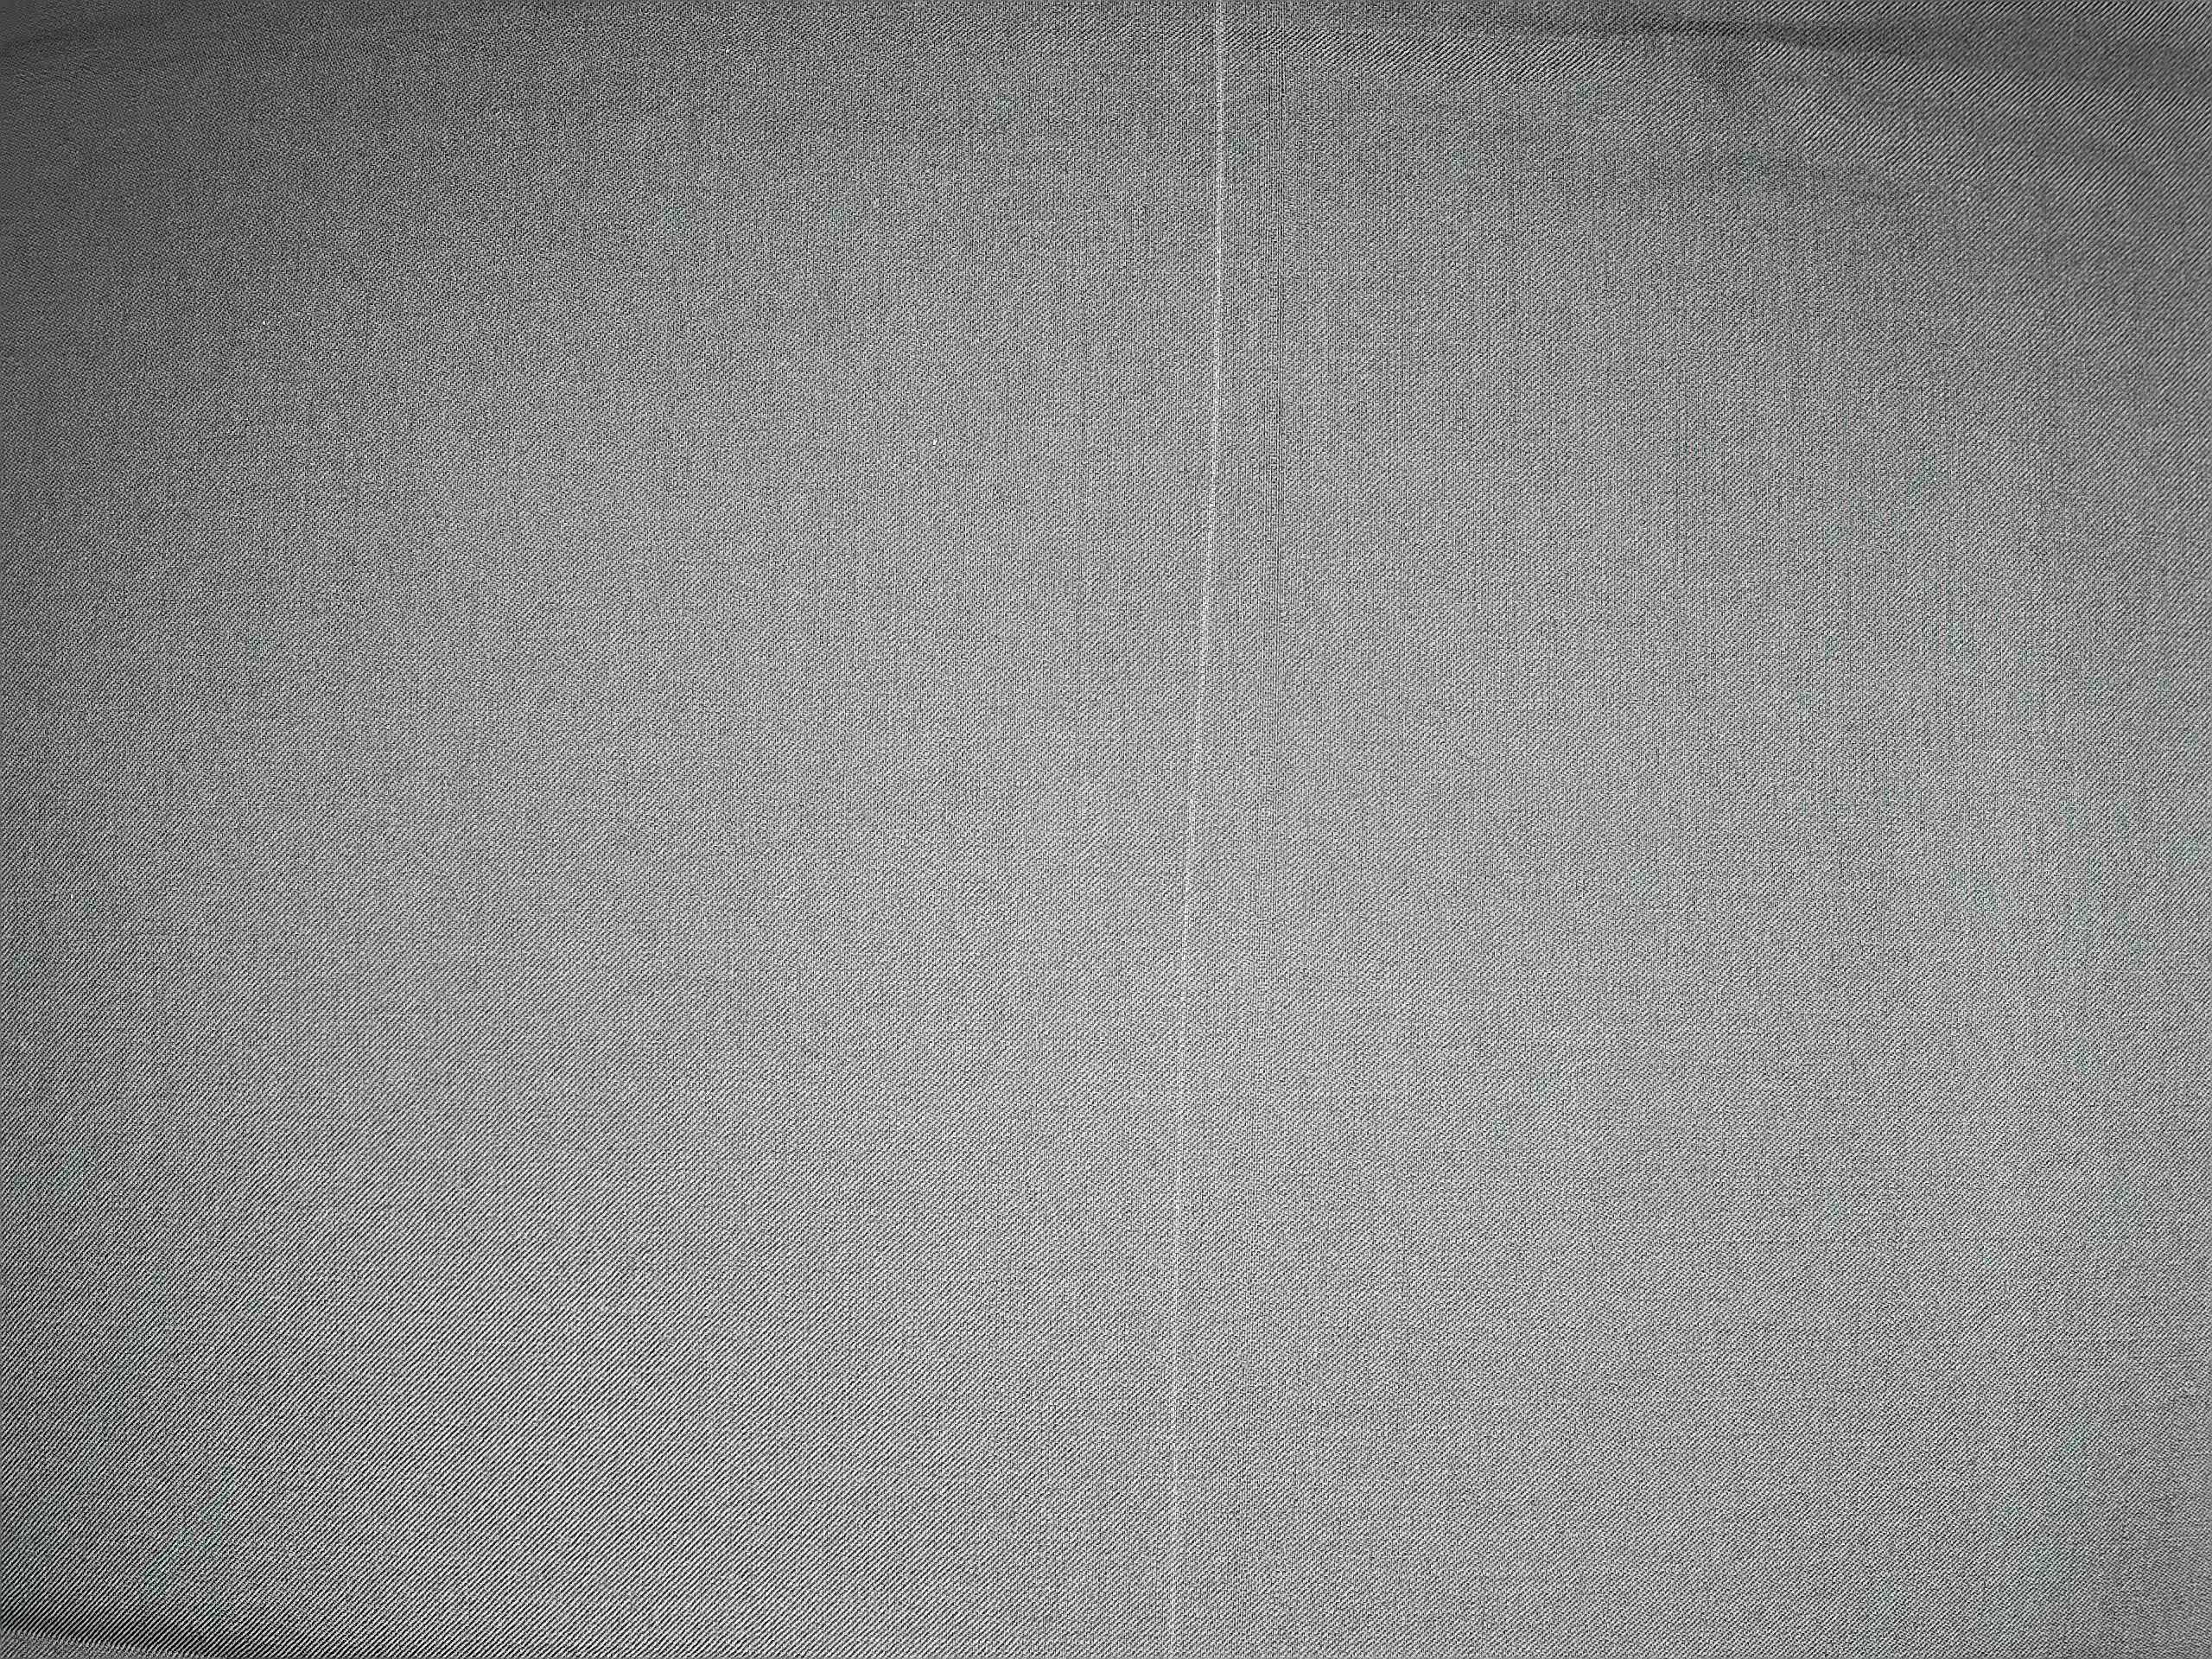lacking-warp: (1251, 7, 1313, 979)
